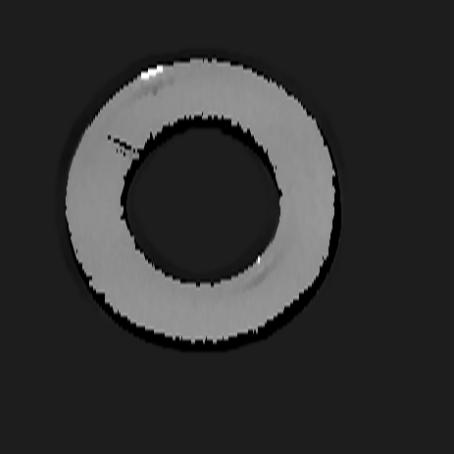defect: (107, 133, 143, 158)
